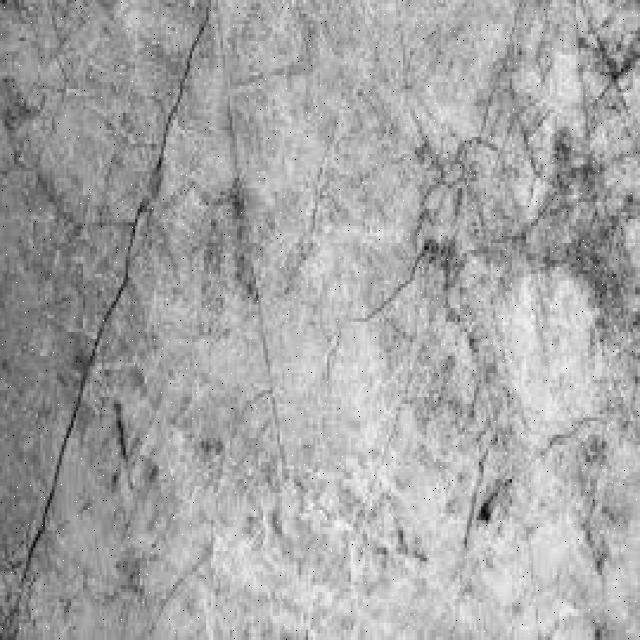Metamorphic: (2, 4, 628, 626)
